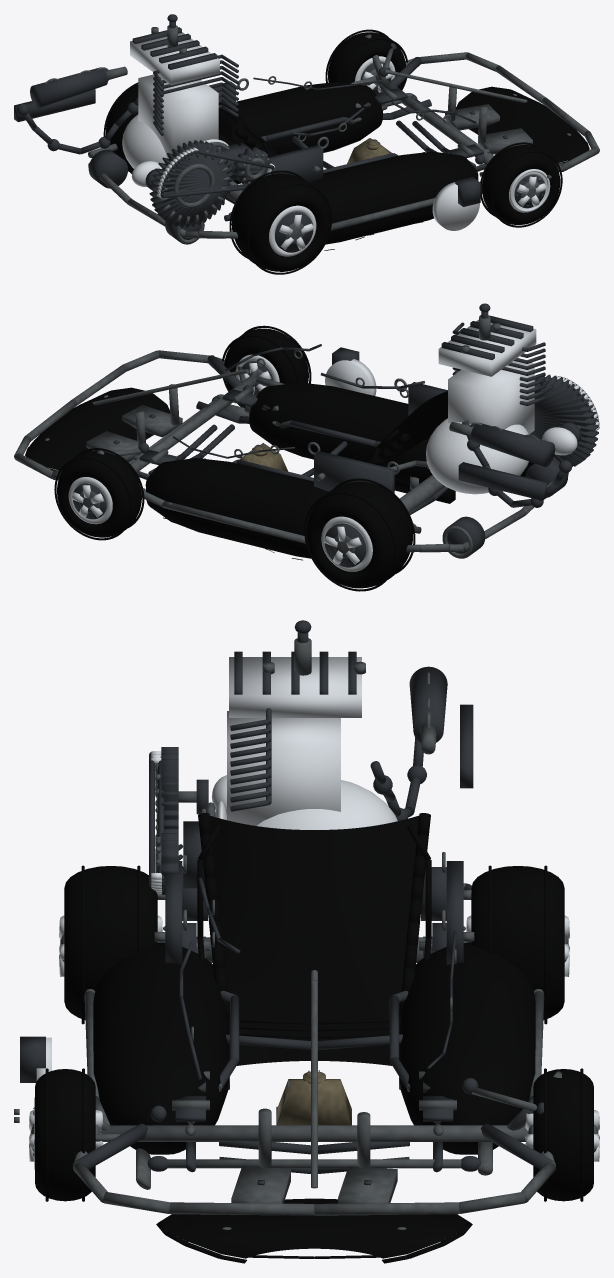
Rendered from SM_CL5_PlayerChassis.fbx.
3 renders of one model, top to bottom at view 1: azimuth 30°, elevation 25°; view 2: azimuth 150°, elevation 25°; view 3: azimuth 270°, elevation 25°, orthographic. The views are drawn at different scales.
Parts seen in each view (by area): view 1: SM_CL5_PlayerChassis; view 2: SM_CL5_PlayerChassis; view 3: SM_CL5_PlayerChassis.
Boxes of the visible parts, x1,y1,x2,y2 form: SM_CL5_PlayerChassis: (14,14,599,274); SM_CL5_PlayerChassis: (14,303,599,591); SM_CL5_PlayerChassis: (14,620,599,1263).
Bounding box in the file's own units: 250 × 154 × 104.
